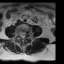CCS_stenosis: (21, 33, 23, 40)
LFS_severe_stenosis: (25, 32, 28, 37)
LLS_normal: (23, 33, 25, 40)
RFS_normal: (18, 32, 20, 38)
RLS_normal: (20, 33, 21, 39)
